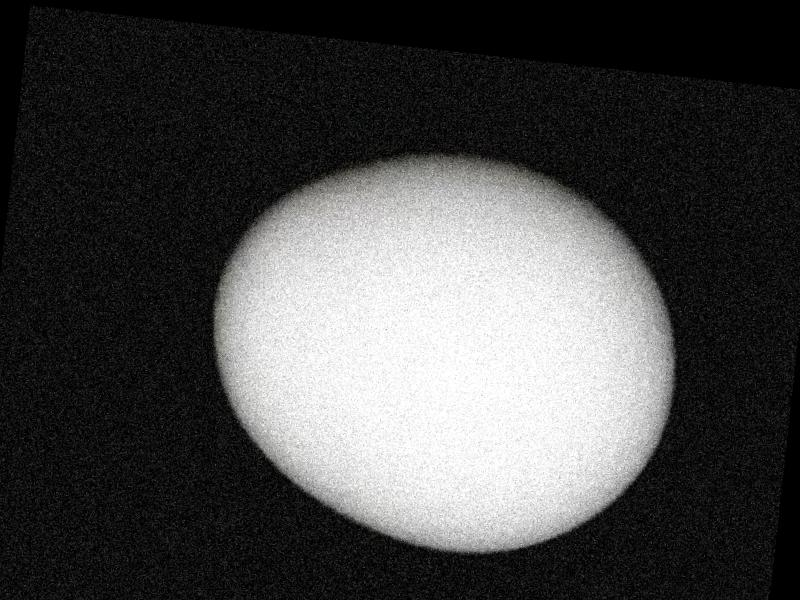Eggs: (196, 139, 698, 571)
